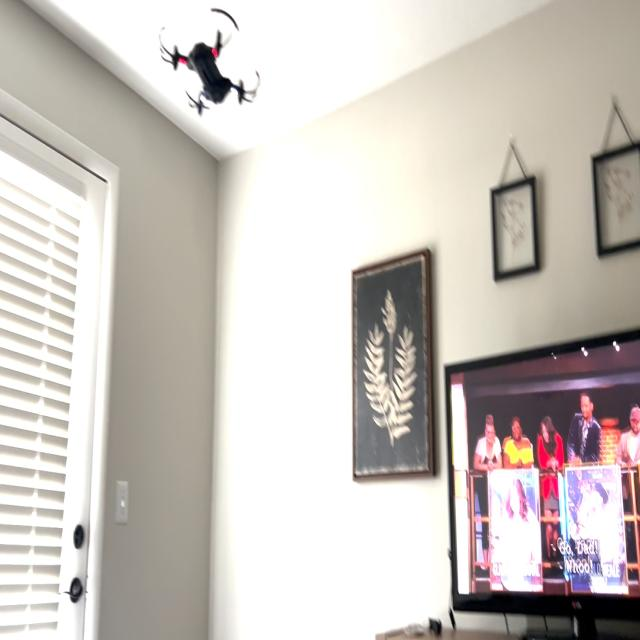drone: (148, 0, 268, 132)
